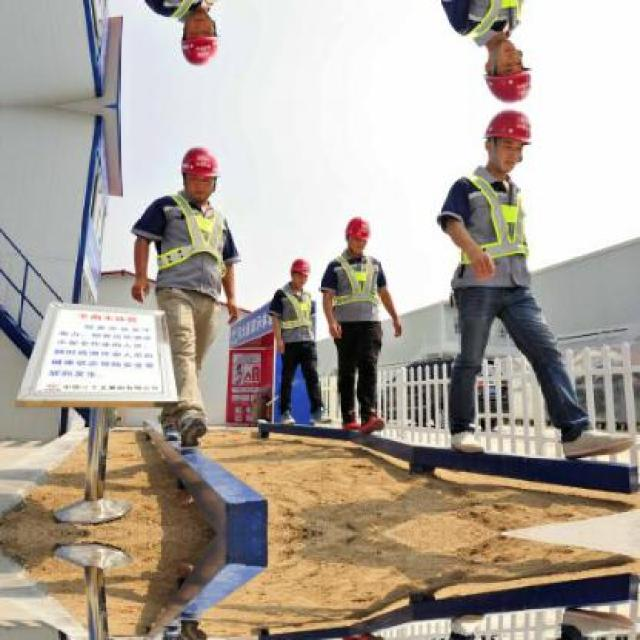helmet: (482, 108, 533, 170), (482, 43, 533, 105), (178, 144, 222, 200), (178, 12, 222, 68), (343, 214, 371, 254), (288, 257, 309, 287)
